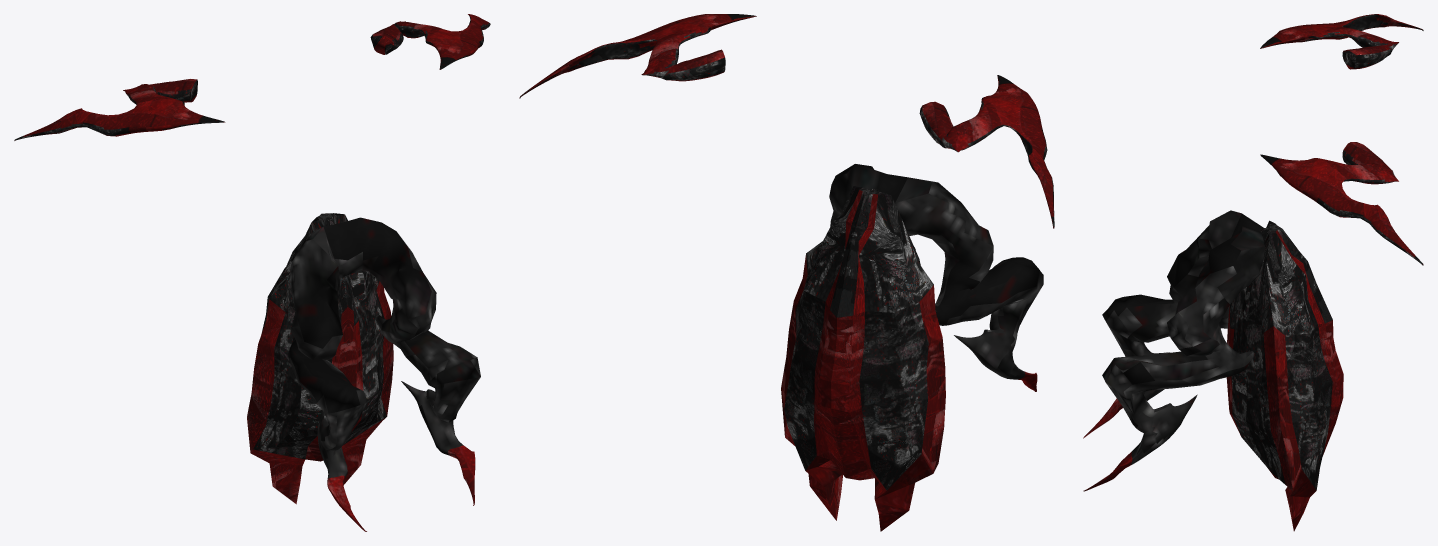
3 views of the same model, side by side, from view 1: azimuth 30°, elevation 25°; view 2: azimuth 150°, elevation 25°; view 3: azimuth 270°, elevation 25° (orthographic). The views are drawn at different scales.
Parts seen in each view (by area): view 1: Body; view 2: Body; view 3: Body.
Part boxes in pixels (<box>): Body: <box>14,14,490,531</box>; Body: <box>519,14,1054,531</box>; Body: <box>1083,14,1423,531</box>.
Bounding box in the file's own units: 1.24 × 1.05 × 0.7617.
